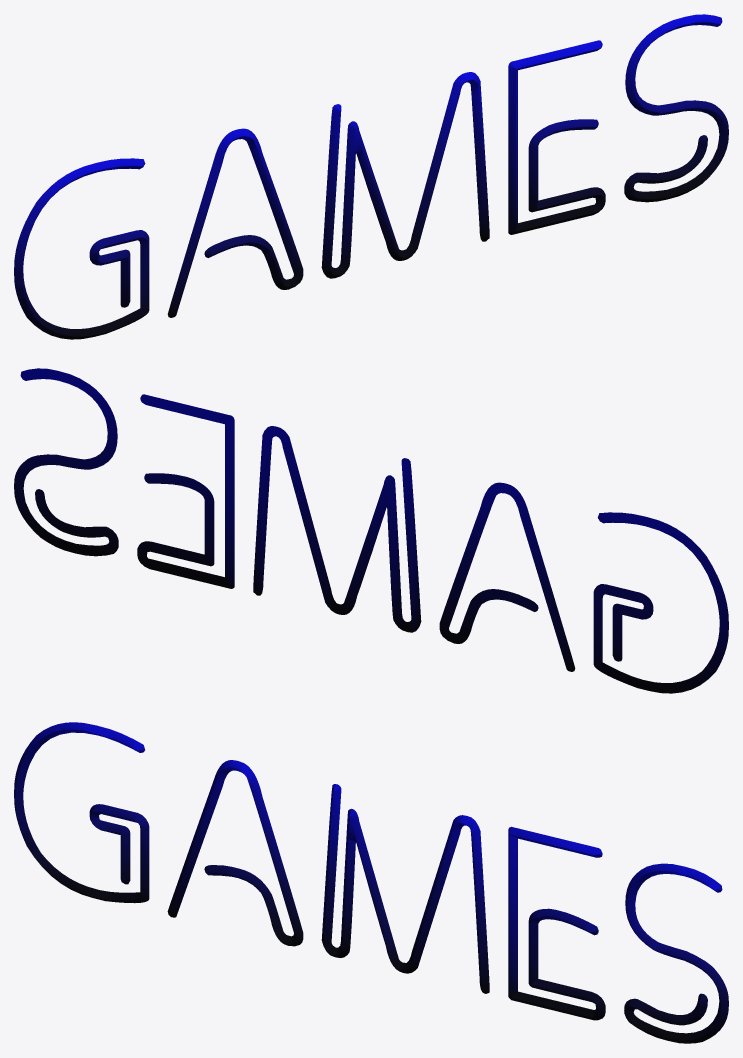
File: SM_Neon_Games.fbx
3 renders of one model, top to bottom at view 1: azimuth 30°, elevation 25°; view 2: azimuth 150°, elevation 25°; view 3: azimuth 330°, elevation 25°, orthographic.
Parts seen in each view (by area): view 1: FBX_OUT; view 2: FBX_OUT; view 3: FBX_OUT.
Part boxes in pixels (bbox=[...]): FBX_OUT: bbox=[14, 14, 728, 339]; FBX_OUT: bbox=[14, 368, 728, 693]; FBX_OUT: bbox=[14, 722, 728, 1043].
Bounding box in the file's own units: 84.57 × 20.16 × 0.6817.
